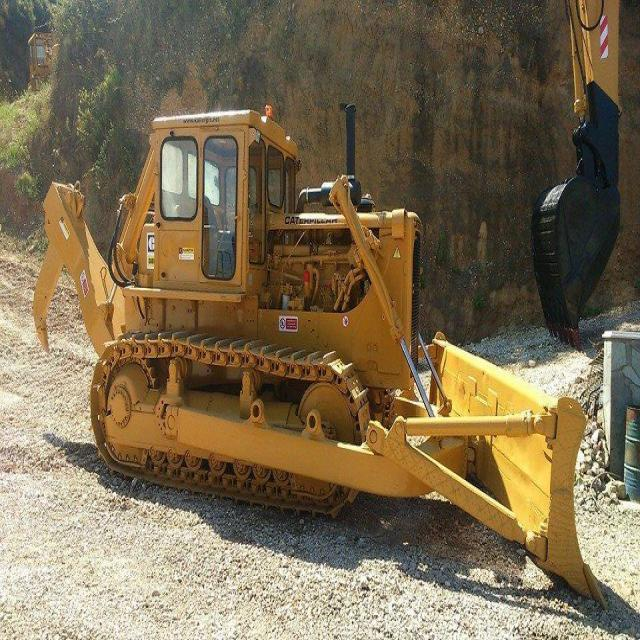Bulldozer: (31, 87, 610, 606)
